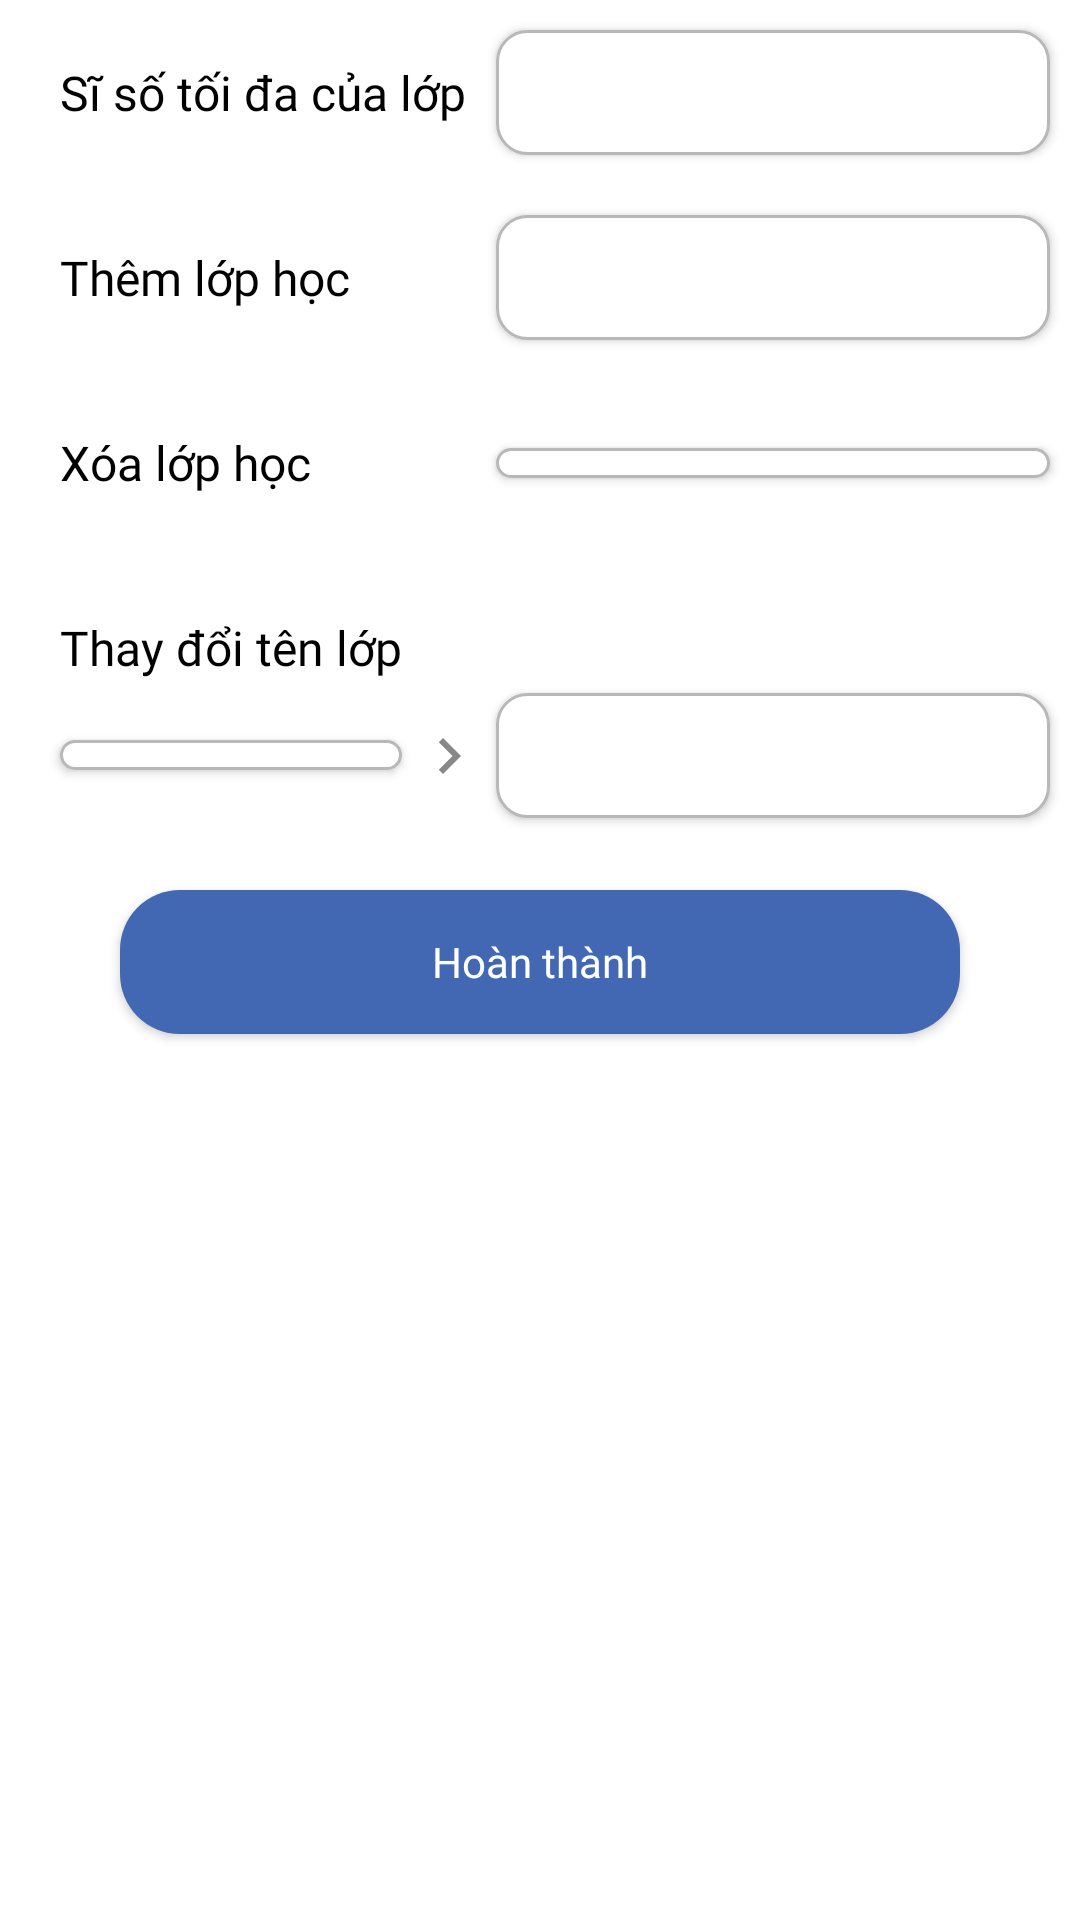

Named icons in this screenshot (1080px x 1920px) and their centers, (x=x, y=y):
navigate next: (x=450, y=756)
